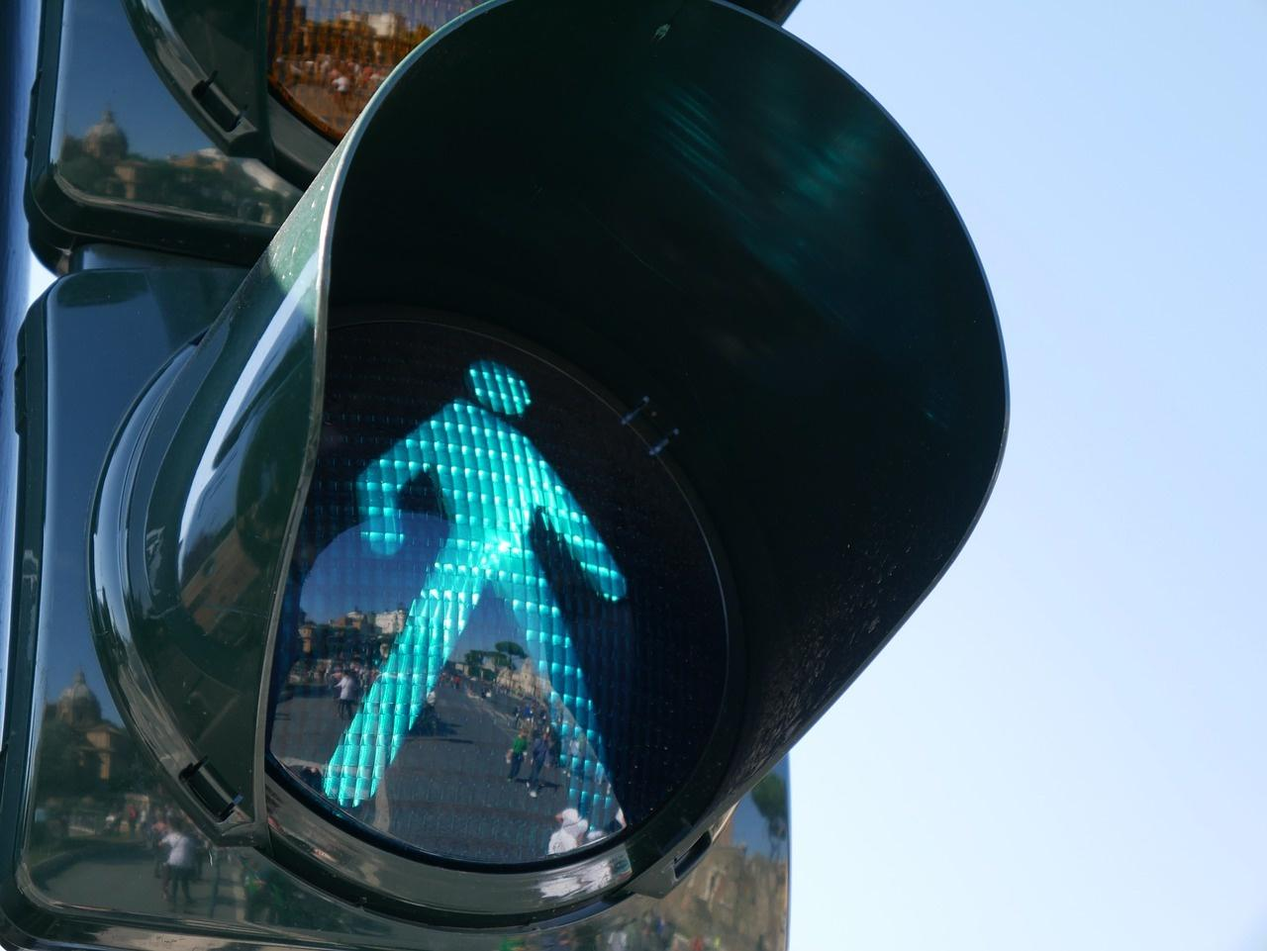Traffic light green: (0, 79, 1232, 951)
